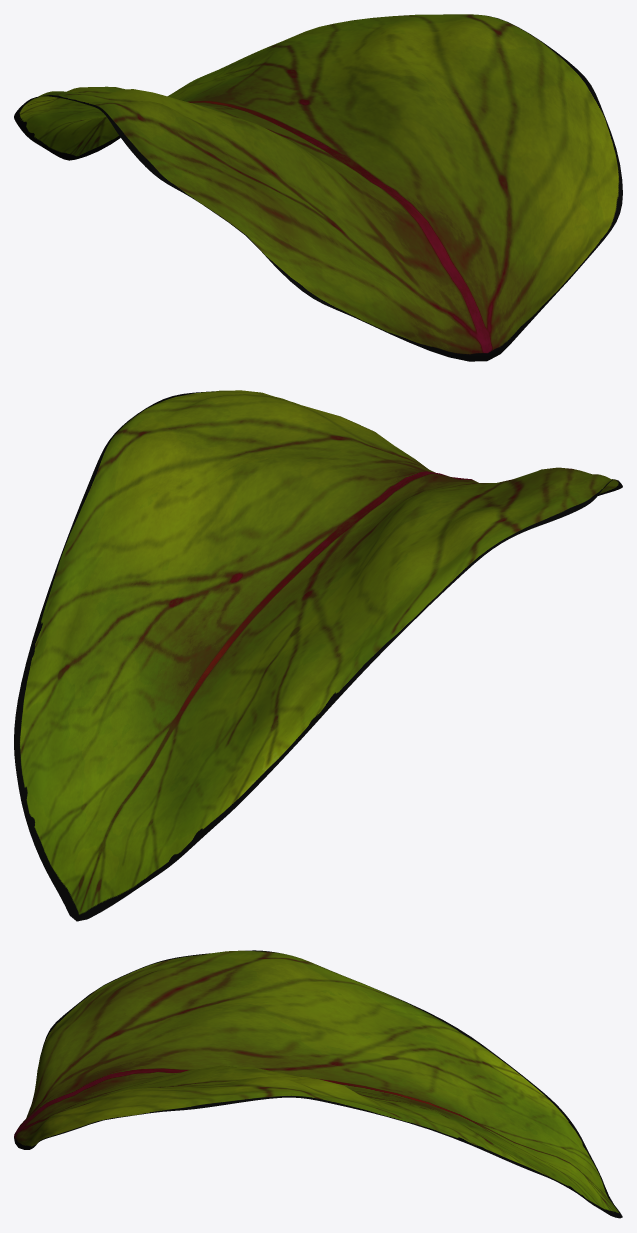
File: la_xanh.glb
3 views of the same model, one above another, from view 1: azimuth 30°, elevation 25°; view 2: azimuth 150°, elevation 25°; view 3: azimuth 270°, elevation 25° (orthographic). The views are drawn at different scales.
Parts seen in each view (by area): view 1: Plane.002; view 2: Plane.002; view 3: Plane.002.
Boxes of the visible parts, x1,y1,x2,y2 form: Plane.002: [14, 14, 622, 361]; Plane.002: [14, 390, 622, 921]; Plane.002: [14, 950, 622, 1218].
Bounding box in the file's own units: 3.49 × 2.08 × 5.86.
1 material, 1 textured.
